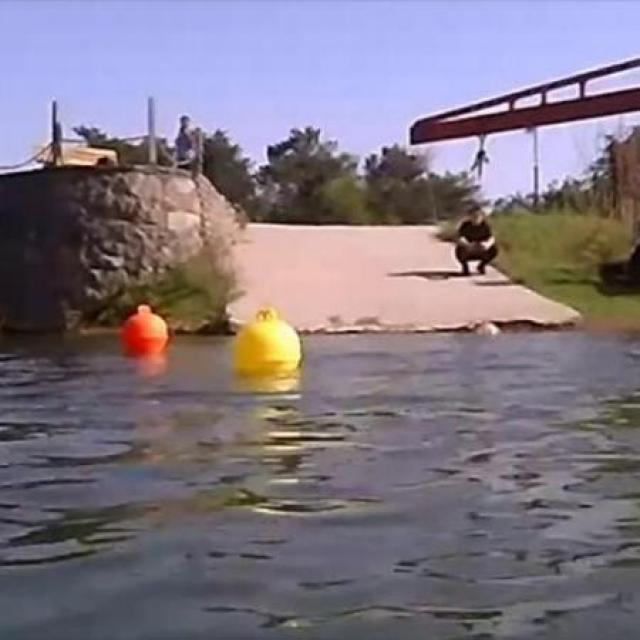buoy: (237, 312, 303, 372), (123, 309, 167, 355)
